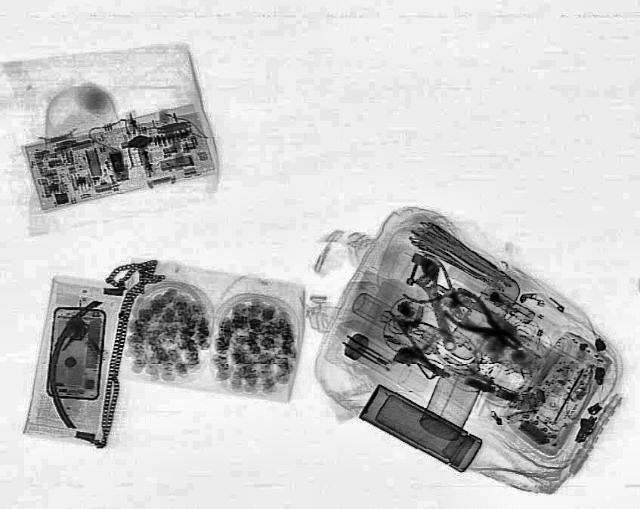Pliers: (431, 285, 539, 361), (380, 245, 488, 321)
Wrench: (404, 254, 468, 354)
